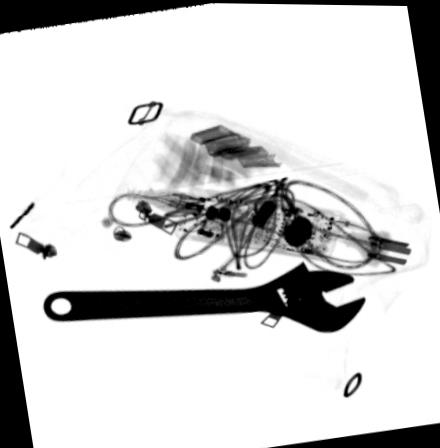Wrench: (40, 258, 369, 332)
